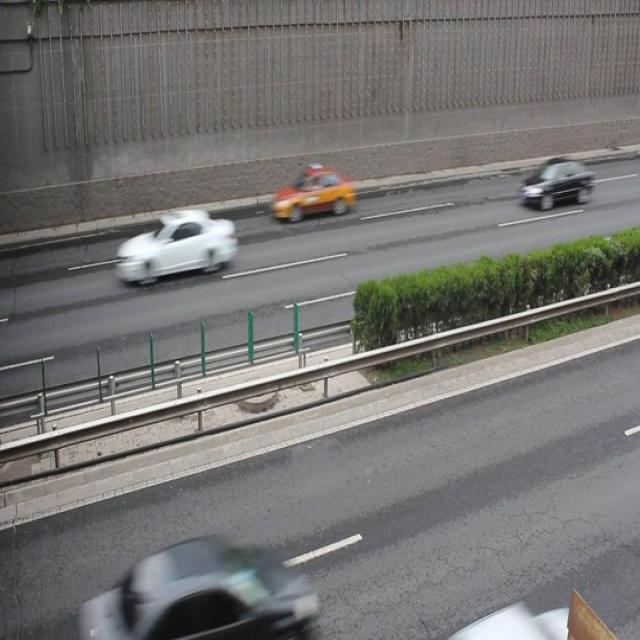car: (79, 533, 312, 640), (116, 209, 236, 283), (449, 594, 587, 640), (274, 162, 354, 221), (522, 153, 593, 210)
